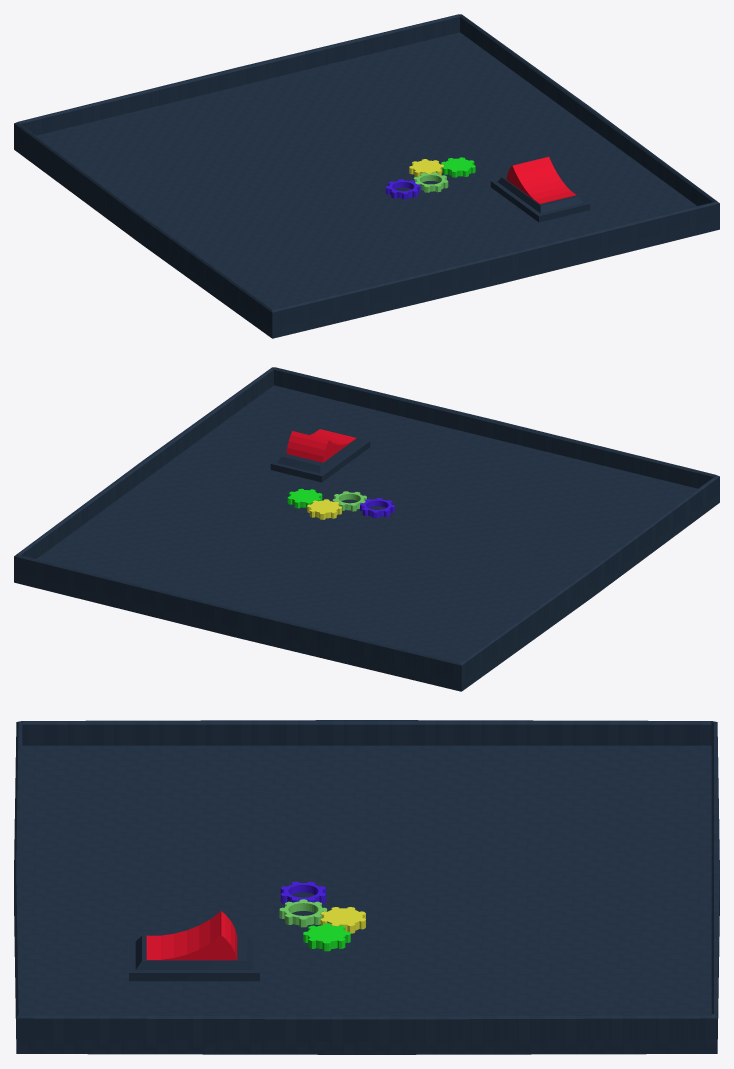
The model's file is GearLow3.glb.
3 renders of one model, top to bottom at view 1: azimuth 30°, elevation 25°; view 2: azimuth 150°, elevation 25°; view 3: azimuth 270°, elevation 25°, orthographic. The views are drawn at different scales.
Parts seen in each view (by area): view 1: Plane, Button, Gear4, Gear2; view 2: Plane, Button, Gear3, Gear2; view 3: Plane, Button, Gear4, Gear1, Gear3, Gear2.
Part boxes in pixels (bbox=[...]): Plane: bbox=[14, 14, 719, 338]; Button: bbox=[506, 156, 576, 204]; Gear4: bbox=[441, 157, 475, 177]; Gear2: bbox=[385, 179, 420, 199]; Plane: bbox=[14, 367, 719, 691]; Button: bbox=[286, 429, 356, 462]; Gear3: bbox=[307, 499, 341, 519]; Gear2: bbox=[360, 498, 394, 518]; Plane: bbox=[14, 720, 719, 1054]; Button: bbox=[146, 911, 237, 960]; Gear4: bbox=[303, 923, 350, 951]; Gear1: bbox=[279, 899, 327, 927]; Gear3: bbox=[320, 907, 365, 933]; Gear2: bbox=[280, 881, 326, 903].
Size of the model in its own units: 32.72 by 3.76 by 32.72.
Materials: 6 (1 with a texture image).
